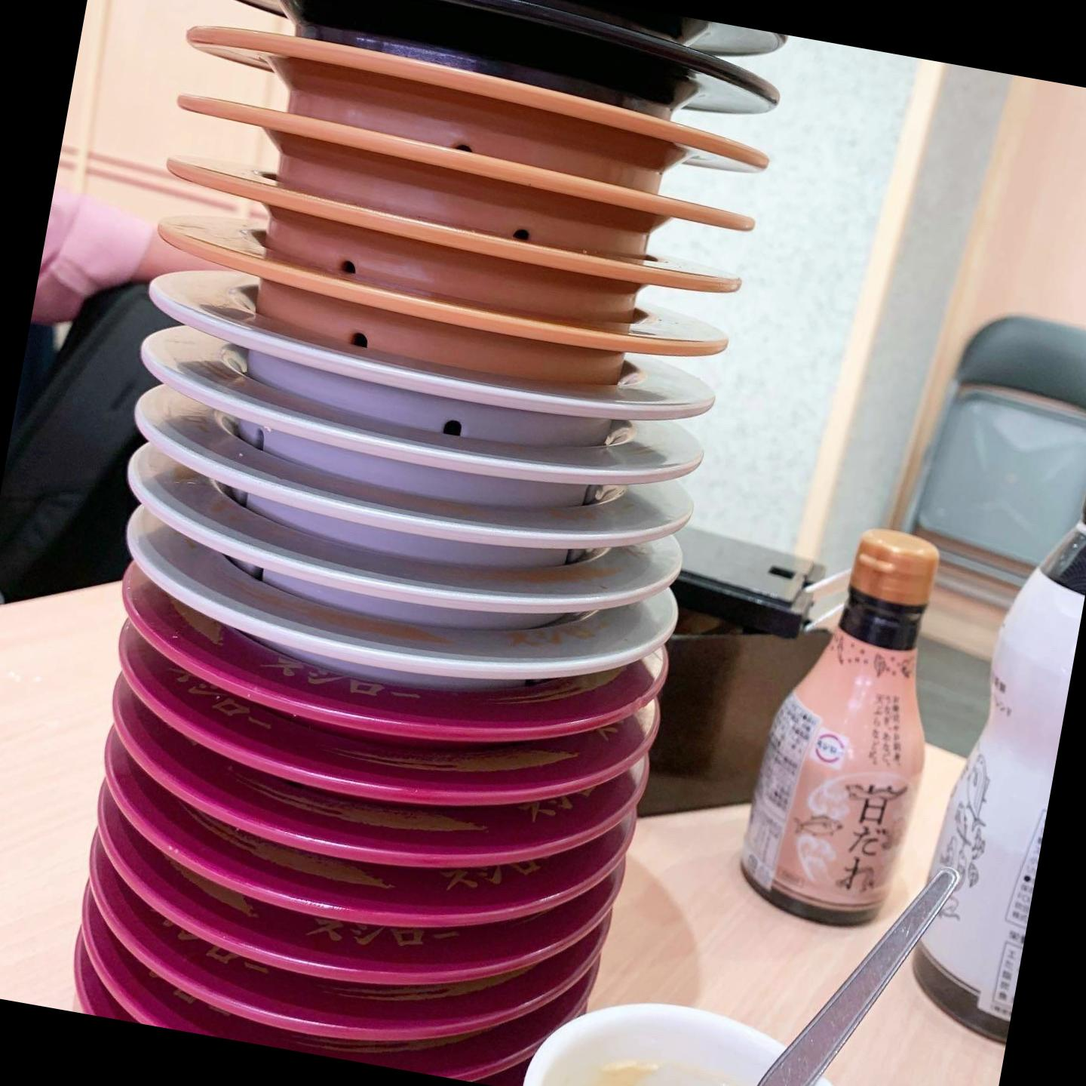Janback: (189, 0, 807, 123), (188, 0, 830, 69)
Jangold: (175, 92, 767, 274), (191, 29, 788, 208), (172, 171, 748, 336), (169, 226, 744, 389)
Janred: (159, 634, 641, 770), (176, 838, 595, 959), (162, 707, 561, 826), (190, 784, 586, 902), (169, 901, 537, 1010), (126, 989, 511, 1086), (154, 955, 521, 1054)
Janwhite: (187, 315, 704, 459), (153, 492, 656, 624), (187, 372, 643, 513), (167, 439, 648, 563), (168, 557, 609, 685)
